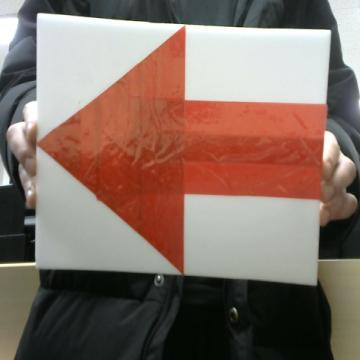red_left: (38, 26, 326, 272)
